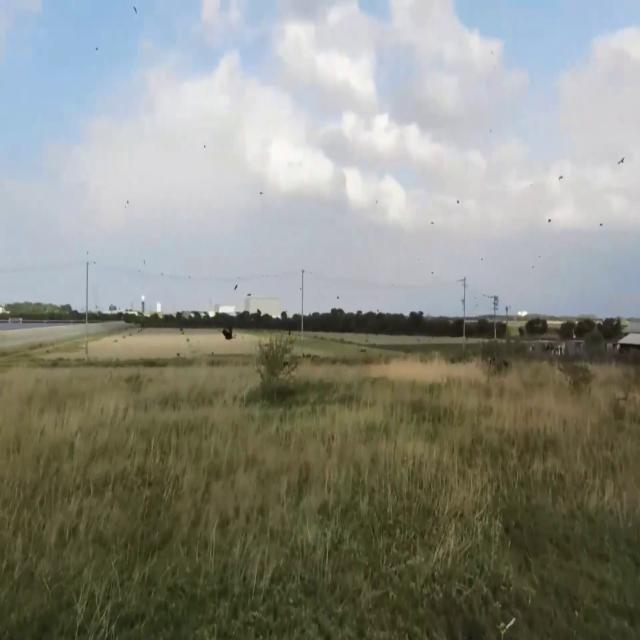bird: (617, 149, 625, 173)
